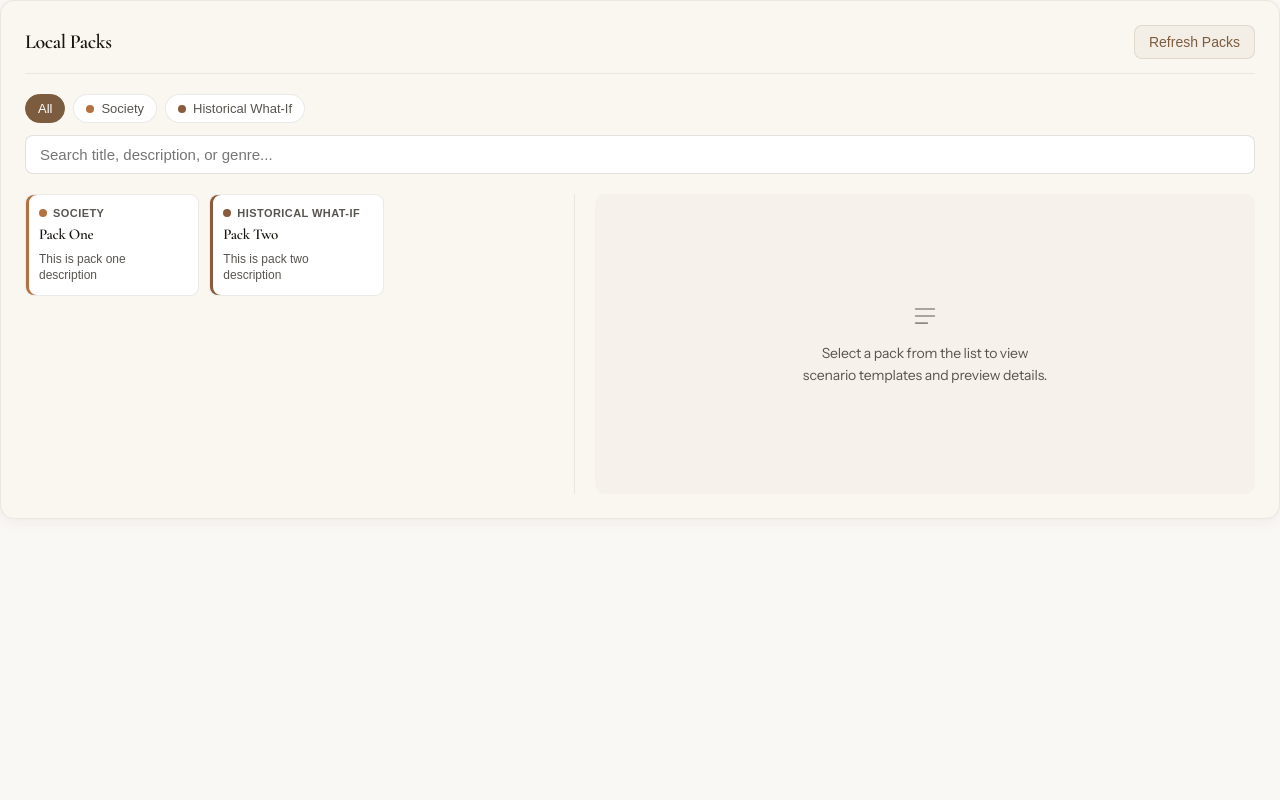
Test: LocalPackPicker › filters packs by genre segment and toggles back to all
Expected: the button "Society Pack One This is pack one description" is shown, 25,194 -> 199,296
What coordinates should you click on to do the following:
click the button "Society"
I would click on:
 (115, 108)
Its box is 74,94 -> 157,123.
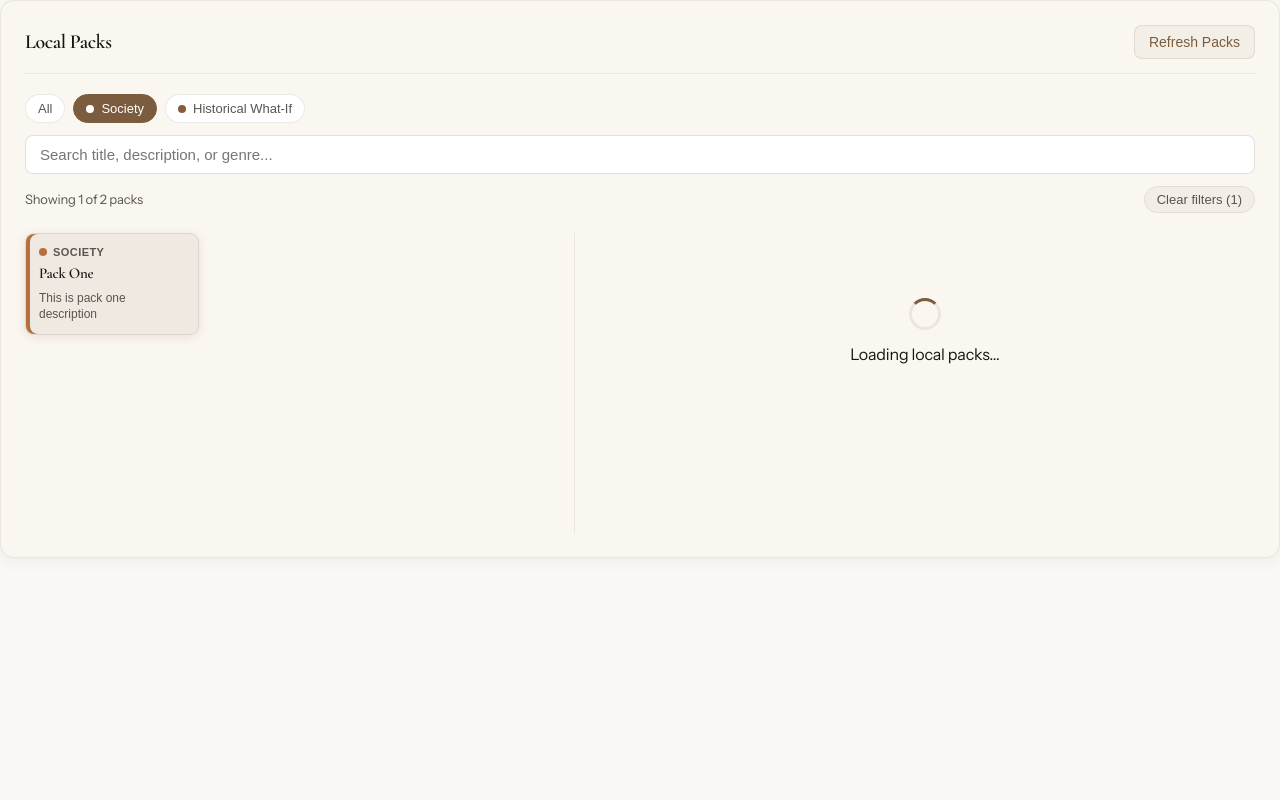
Expected: the button "Society Pack One This is pack one description" is shown, 25,233 -> 199,335
Expected: the button "Pack Two" is gone
# Clicking the active segment again clears the filter (back to all)
What coordinates should you click on to do the following:
click the button "Society"
I would click on:
 (115, 108)
Its box is 74,94 -> 157,123.
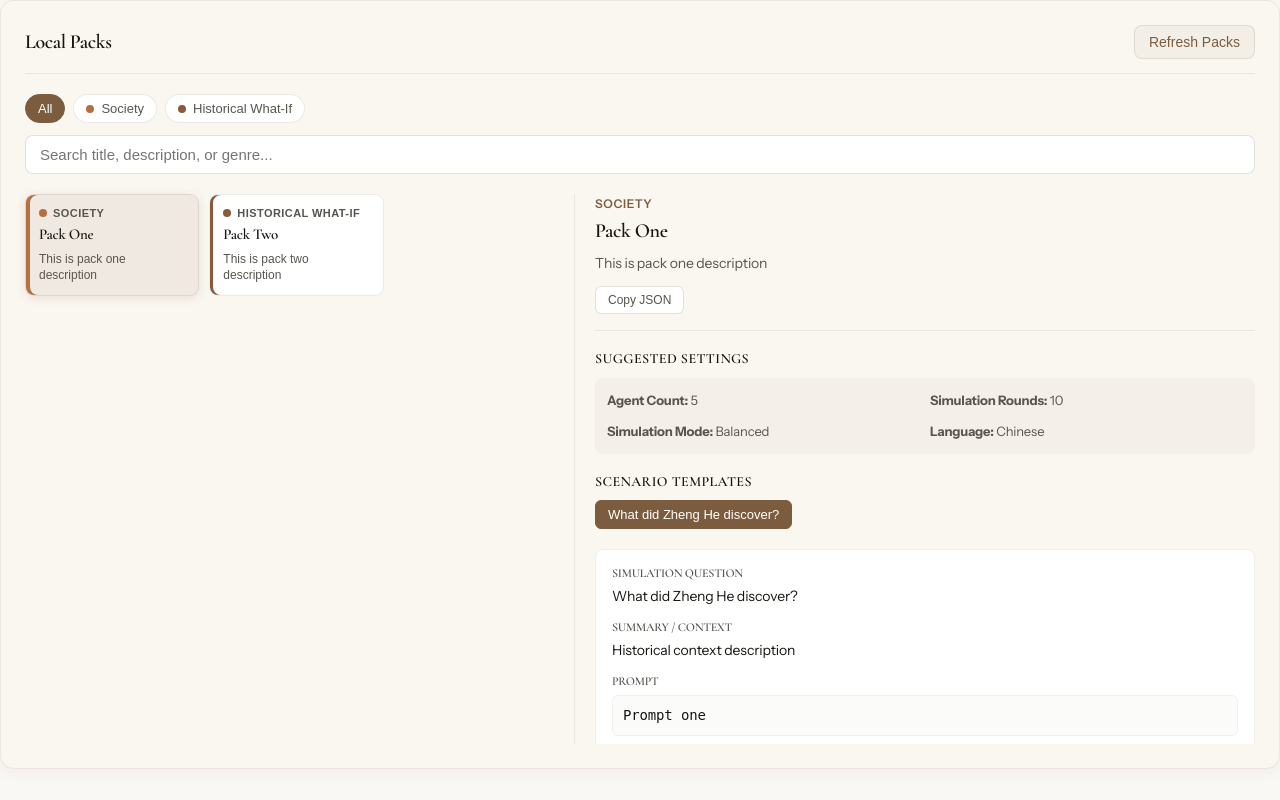
Expected: the button "Society Pack One This is pack one description" is shown, 25,194 -> 199,296
Expected: the button "Historical What-If Pack Two This is pack two description" is shown, 209,194 -> 384,296
